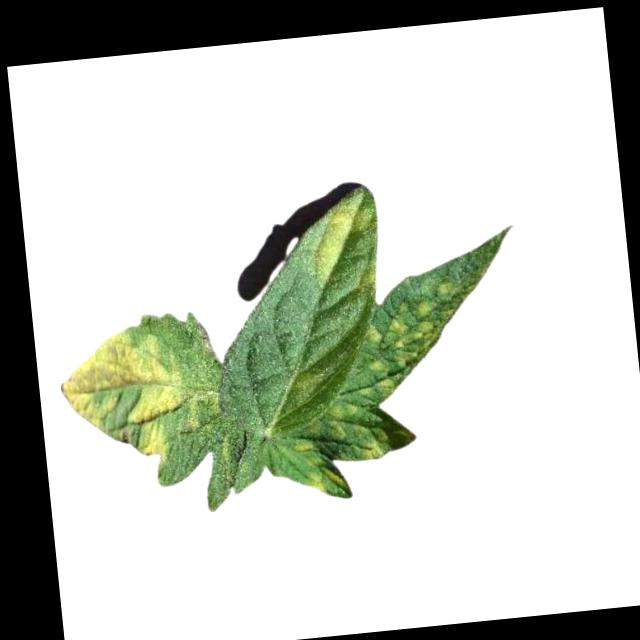Leaf_Mold: (54, 322, 206, 476), (354, 276, 488, 401), (306, 197, 382, 297), (291, 439, 353, 504), (355, 421, 395, 462)
